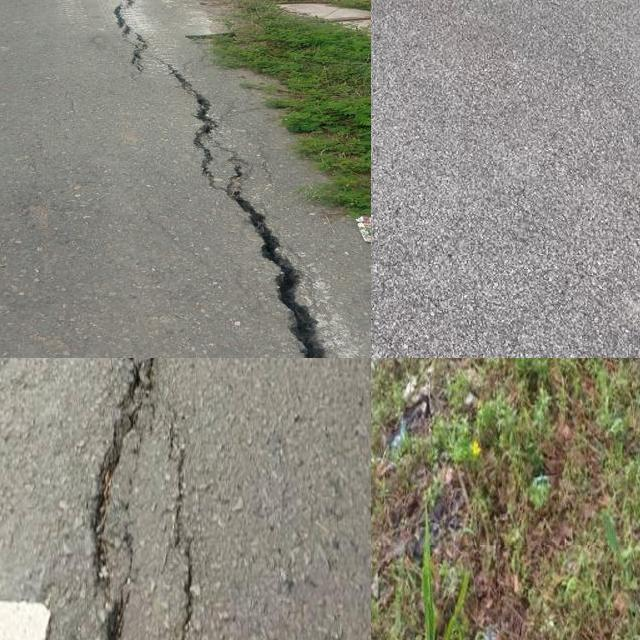Memanjang: (102, 0, 371, 358), (68, 358, 152, 640), (161, 411, 217, 640)
